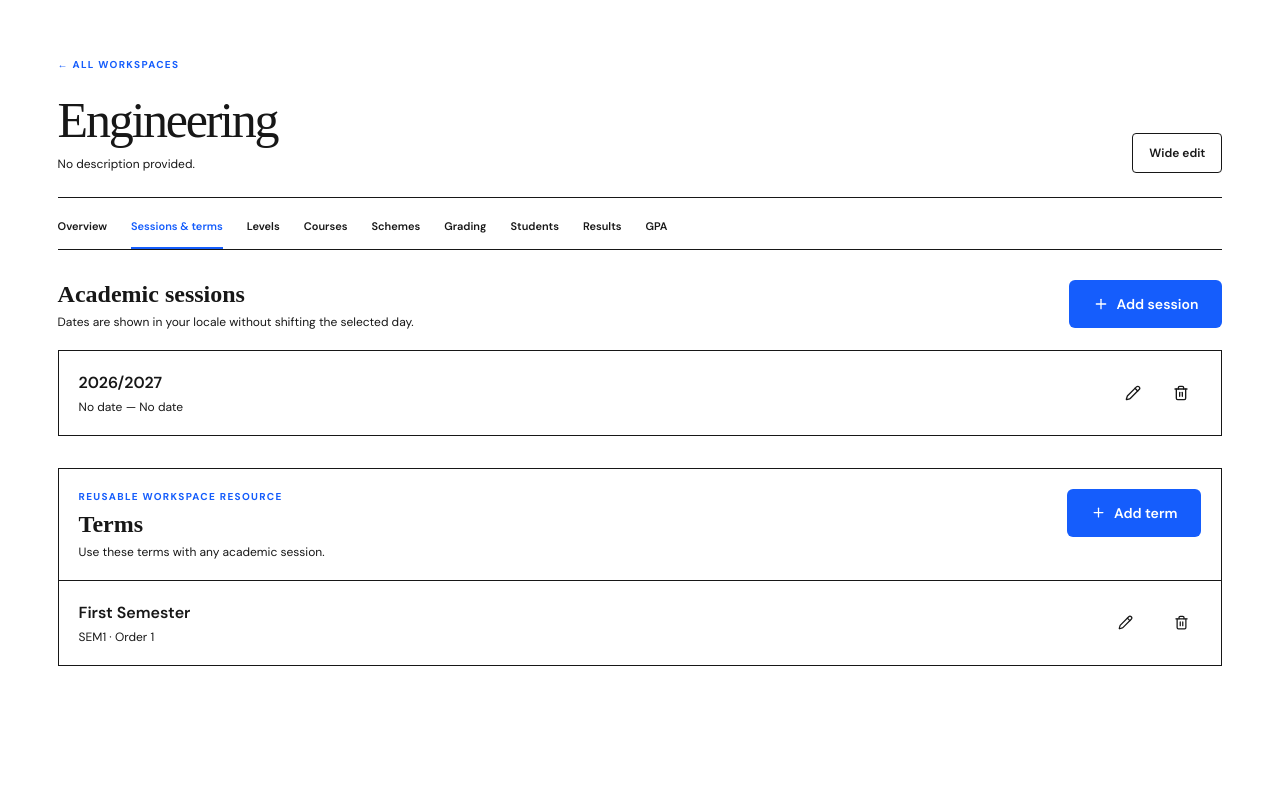
workspace terms management › edits a term and keeps it visible when referenced deletion returns 409
This screenshot has width=1280, height=800.
Click the button named "Edit First Semester": click(1125, 623) [1105,603,1145,643]
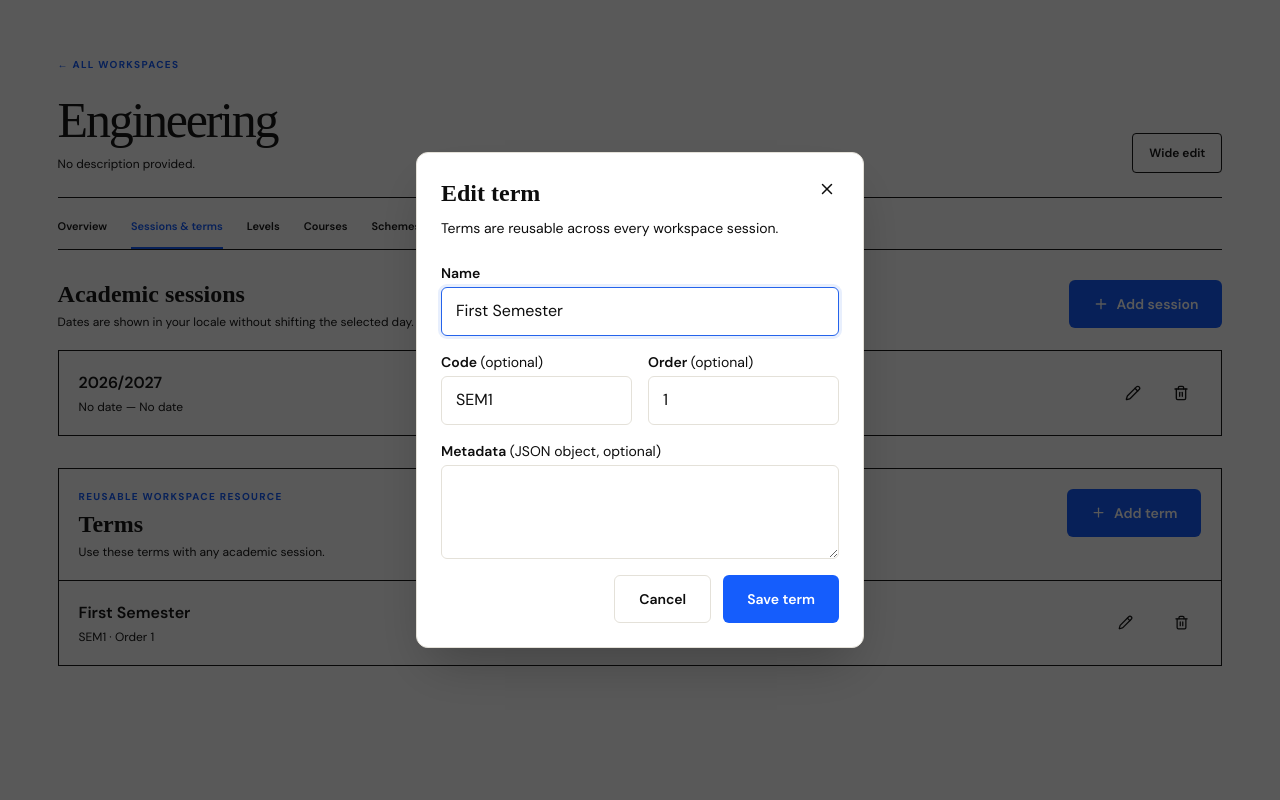
Replace the text in the field labelled "Name" with "Semester One": (640, 312) [441,287,839,336]
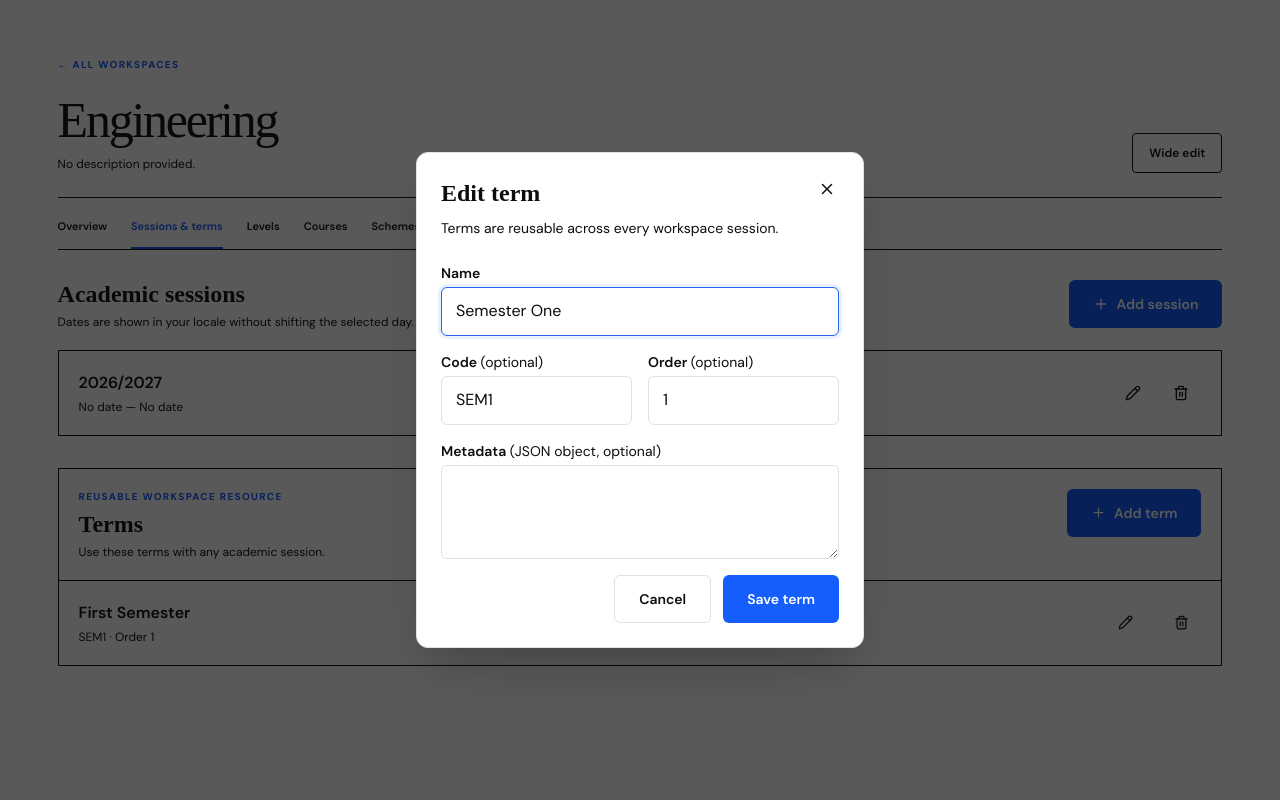
Click the button "Save term": click(781, 600) [723,576,839,624]
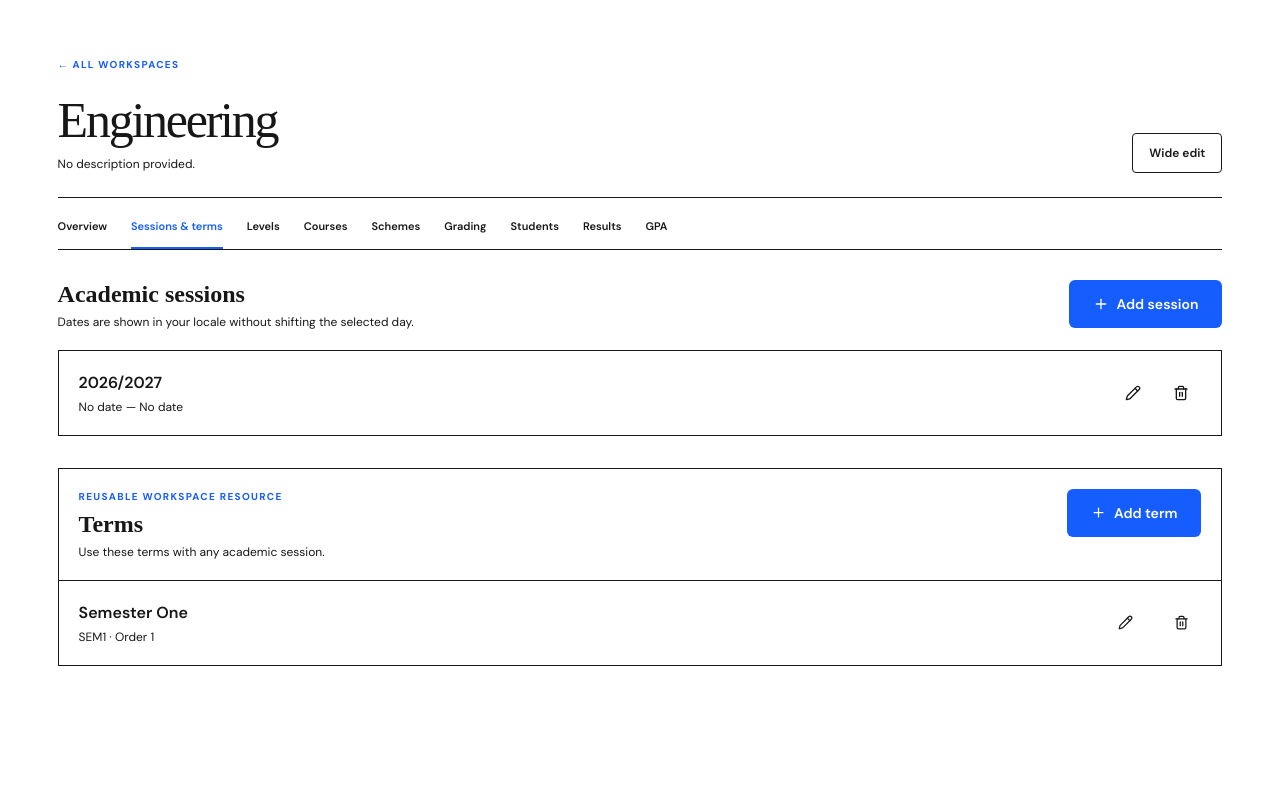
Result: the heading "Semester One" is shown at [79,602,188,623]
Click the button named "Delete Semester One": click(1181, 623) [1161,603,1201,643]
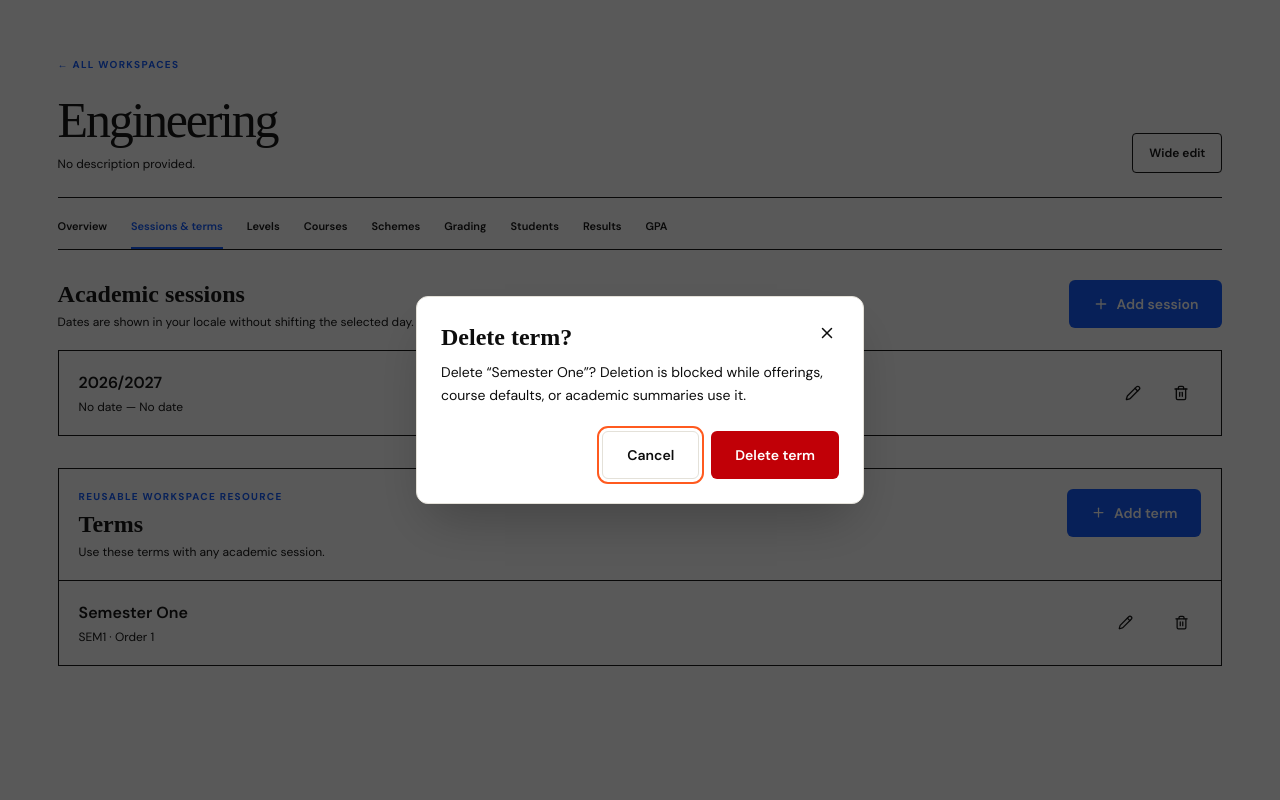
Result: the dialog shows "Semester One" at [441,363,823,404]
Click the button "Delete term": click(775, 455) [711,431,839,479]
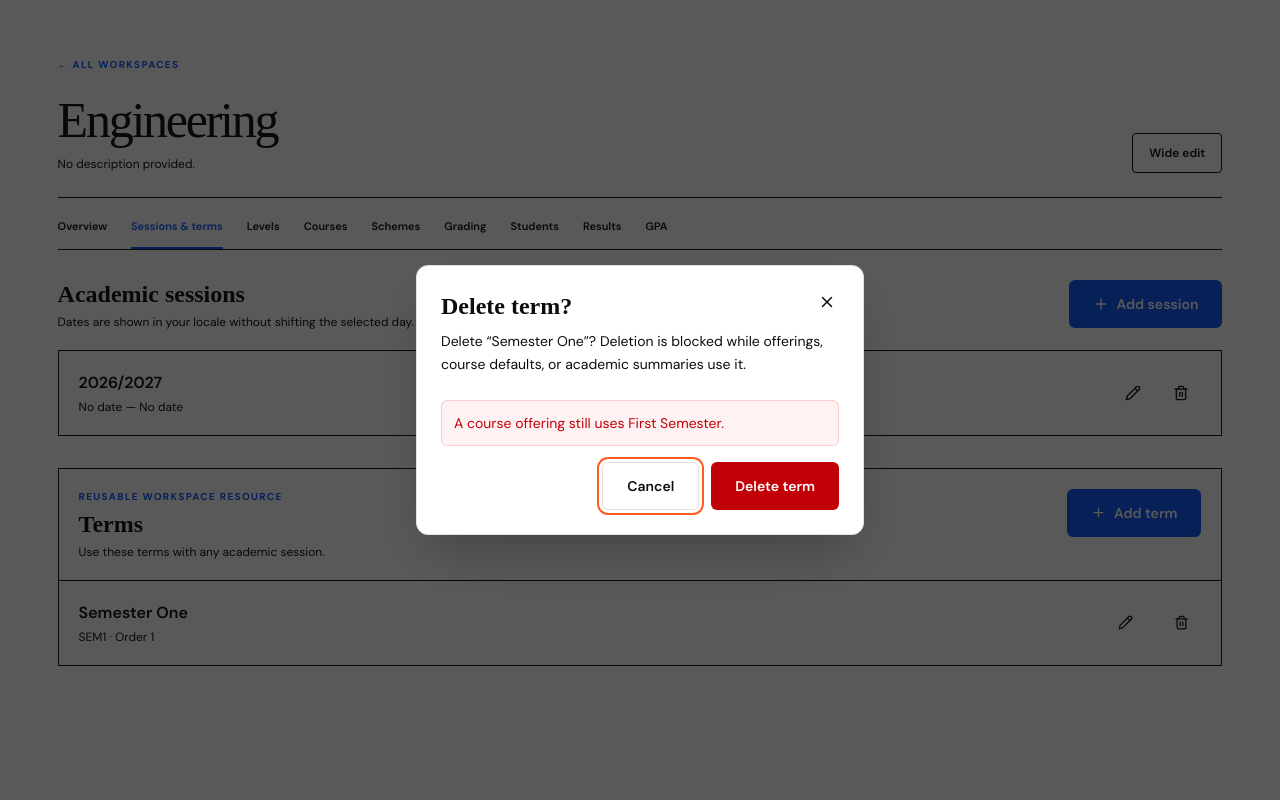
Result: the heading "Semester One" is shown at [79,602,188,623]
Result: the text "A course offering still uses First Semester." is shown at [441,400,839,446]
